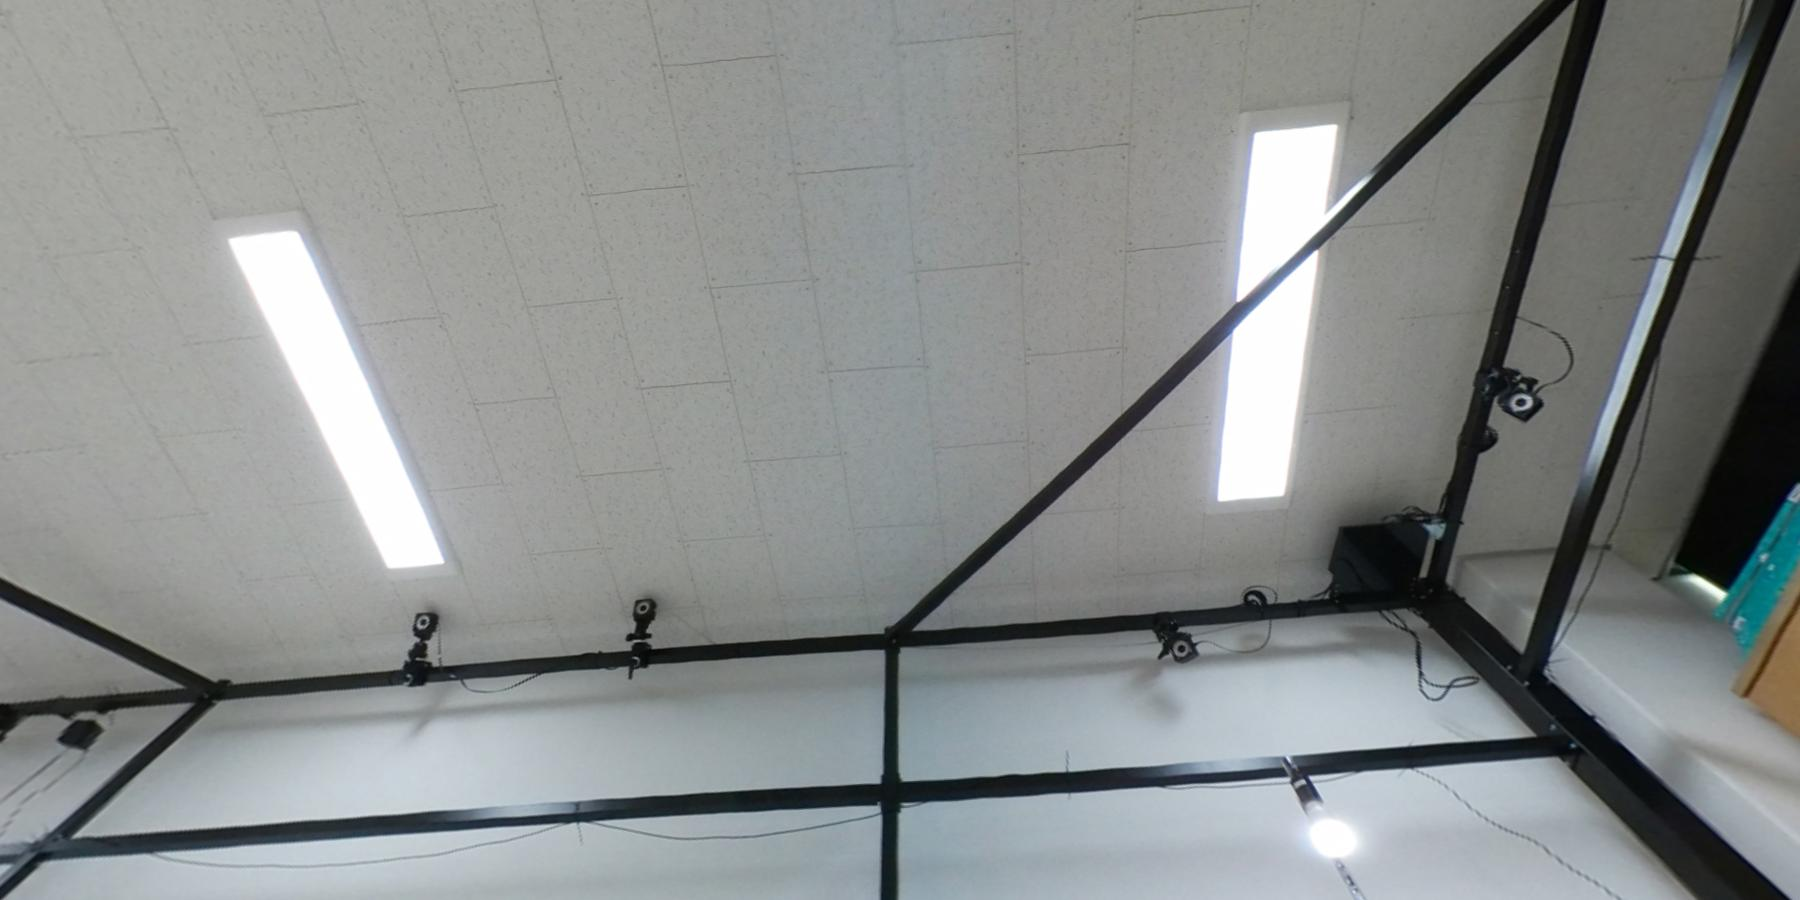PointLight1: (1285, 757, 1360, 864)
